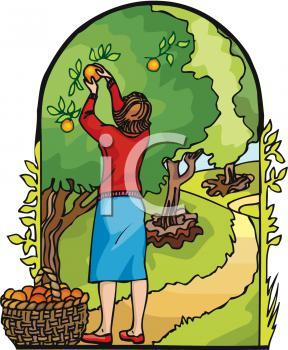person: (77, 64, 151, 347)
